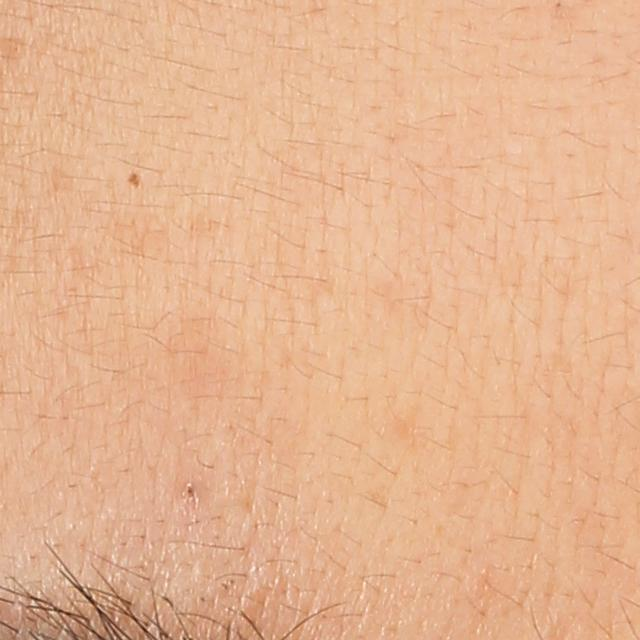comedo: (180, 484, 196, 501)
nevus: (125, 171, 144, 191)
